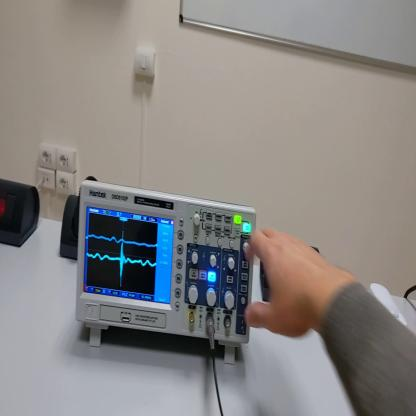hand: (243, 224, 327, 339)
oscilloscope: (74, 179, 261, 369)
socket: (1, 177, 44, 250), (57, 196, 81, 265)
